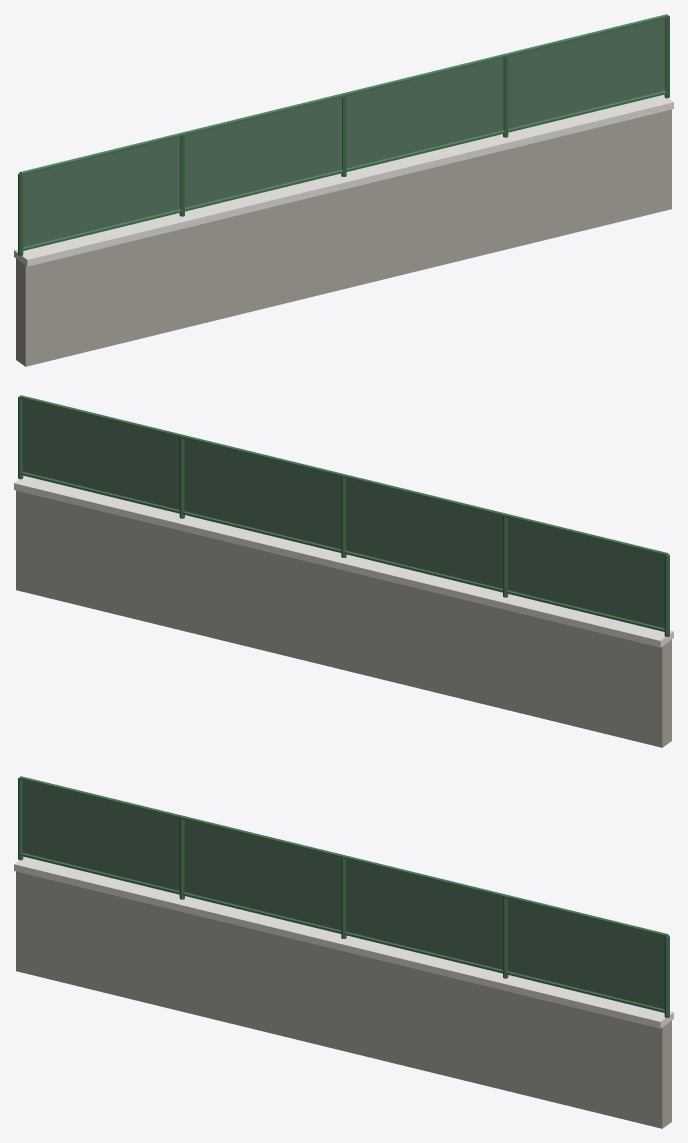
File: BoundaryWall.fbx
3 renders of one model, top to bottom at view 1: azimuth 30°, elevation 25°; view 2: azimuth 150°, elevation 25°; view 3: azimuth 330°, elevation 25°, orthographic.
Visible parts, largest first — view 1: BoundaryWall; view 2: BoundaryWall; view 3: BoundaryWall.
Boxes of the visible parts, box(x1,y1,x2,y2) form: BoundaryWall: box(14, 14, 673, 366); BoundaryWall: box(14, 395, 673, 747); BoundaryWall: box(14, 776, 673, 1128).
Bounding box in the file's own units: 10.06 × 2.83 × 0.36.
